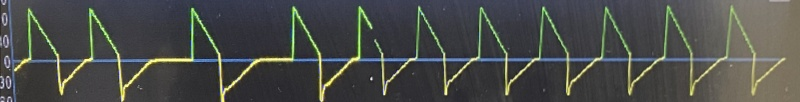normal_flow: (9, 0, 774, 102)
